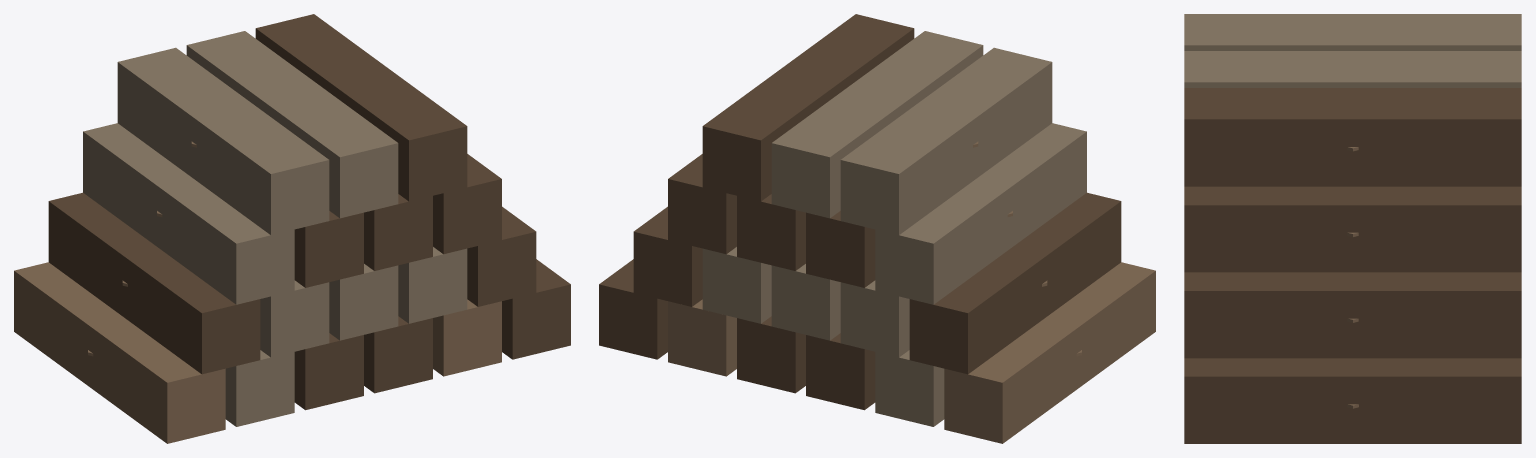
File: odun-yigini.glb
3 views of the same model, side by side, from view 1: azimuth 30°, elevation 25°; view 2: azimuth 150°, elevation 25°; view 3: azimuth 270°, elevation 25° (orthographic). The views are drawn at different scales.
Visible parts, largest first — view 1: kabuk, ahsap_koyu, ahsap; view 2: kabuk, ahsap_koyu, ahsap; view 3: ahsap_koyu, kabuk.
Part boxes in pixels (<box>): kabuk: <box>83,31,467,426</box>; ahsap_koyu: <box>48,14,570,410</box>; ahsap: <box>14,141,501,443</box>; kabuk: <box>702,31,1086,426</box>; ahsap_koyu: <box>599,14,1121,410</box>; ahsap: <box>668,141,1155,443</box>; ahsap_koyu: <box>1184,88,1521,443</box>; kabuk: <box>1184,14,1521,87</box>.
Size of the model in its own units: 1.54 by 0.8801 by 1.
